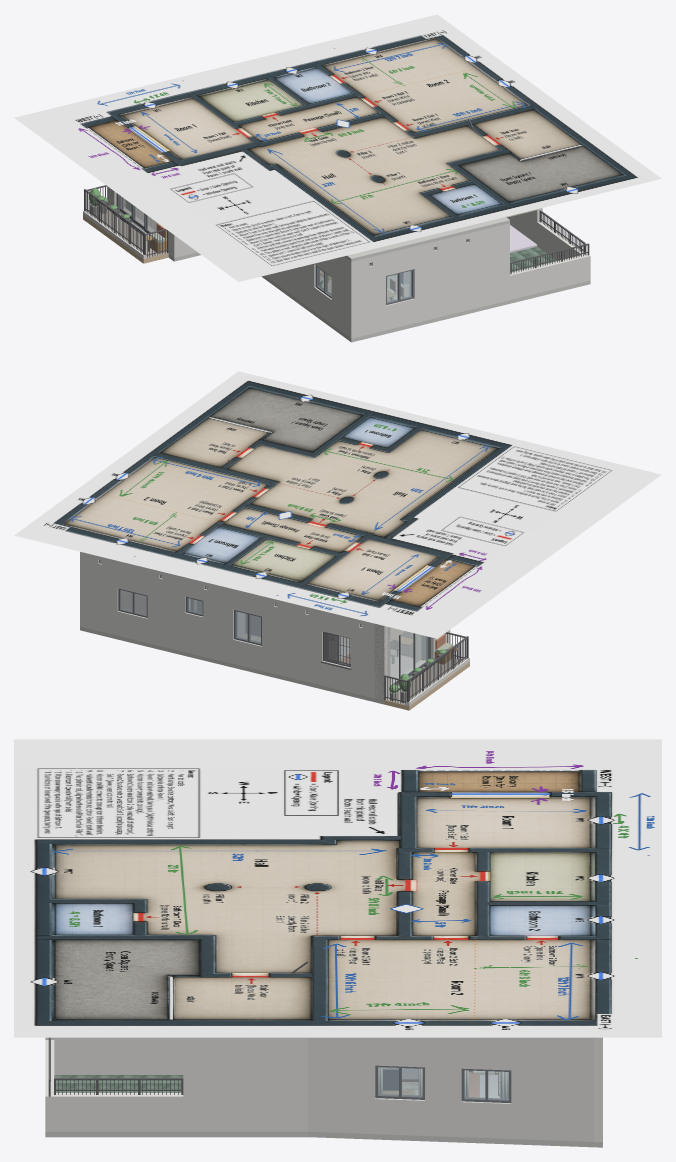
The model's file is MyFlat_V2_Room2_Ensuite.glb.
The picture shows the model from 3 angles, top to bottom: view 1: azimuth 30°, elevation 25°; view 2: azimuth 150°, elevation 25°; view 3: azimuth 270°, elevation 25°; orthographic projection. The views are drawn at different scales.
Visible parts, largest first — view 1: PLAN_REFERENCE_OVERLAY, WALL_EXT_S_HALL, WALL_EXT_W_HALL, PARAPET_OPENSQ_S, SLAB_FLOOR_STRUCTURAL, BALCONY_RAILING_W, SLAB_ROOF, PARAPET_OPENSQ_E, RAILING_OPENSQ_S, R1_DEF_BALCONY_FLOOR_FINISH, WALL_EXT_E_STAIR, HBB_OPENSQ_FINISH (+2 smaller); view 2: PLAN_REFERENCE_OVERLAY, WALL_EXT_N_R1, WALL_EXT_N_R2, WALL_EXT_N_KIT, WALL_EXT_N_B2, BALCONY_RAILING_W, SLAB_FLOOR_STRUCTURAL, PILLAR_R1_NW, R1_DEF_BALCONY_CURTAIN_SHEER, R1_DEF_BALCONY_FLOOR_FINISH, WINDOW_W2_GLASS, WALL_EXT_W_R1_BALCONY (+1 smaller); view 3: PLAN_REFERENCE_OVERLAY, WALL_EXT_E_R2_TAPERED, WALL_EXT_E_STAIR, PARAPET_OPENSQ_E, WALL_INT_OPENSQ_W, SLAB_FLOOR_STRUCTURAL, HBB_OPENSQ_FINISH, WINDOW_W5_GLASS, WINDOW_W6_GLASS, RAILING_OPENSQ_E, WALL_EXT_N_R2, PARAPET_OPENSQ_S (+2 smaller).
Boxes of the visible parts, x1,y1,x2,y2 form: PLAN_REFERENCE_OVERLAY: (14,14,661,281); WALL_EXT_S_HALL: (348,223,509,338); WALL_EXT_W_HALL: (265,256,356,338); PARAPET_OPENSQ_S: (510,254,590,299); SLAB_FLOOR_STRUCTURAL: (168,252,590,342); BALCONY_RAILING_W: (84,189,145,254); SLAB_ROOF: (344,217,509,261); PARAPET_OPENSQ_E: (537,221,587,260); RAILING_OPENSQ_S: (510,243,589,274); R1_DEF_BALCONY_FLOOR_FINISH: (96,209,168,258); WALL_EXT_E_STAIR: (507,208,542,244); HBB_OPENSQ_FINISH: (510,246,556,272); PLAN_REFERENCE_OVERLAY: (14,371,661,638); WALL_EXT_N_R1: (283,601,387,700); WALL_EXT_N_R2: (80,553,176,649); WALL_EXT_N_KIT: (211,584,283,676); WALL_EXT_N_B2: (177,575,211,658); BALCONY_RAILING_W: (407,636,468,701); SLAB_FLOOR_STRUCTURAL: (80,626,384,704); PILLAR_R1_NW: (374,623,390,700); R1_DEF_BALCONY_CURTAIN_SHEER: (390,631,421,681); R1_DEF_BALCONY_FLOOR_FINISH: (385,658,462,705); WINDOW_W2_GLASS: (236,611,260,642); WALL_EXT_W_R1_BALCONY: (375,624,449,698); PLAN_REFERENCE_OVERLAY: (14,739,661,1037); WALL_EXT_E_R2_TAPERED: (307,1037,594,1141); WALL_EXT_E_STAIR: (183,1037,307,1131); PARAPET_OPENSQ_E: (54,1093,183,1131); WALL_INT_OPENSQ_W: (54,1037,183,1074); SLAB_FLOOR_STRUCTURAL: (45,1131,602,1147); HBB_OPENSQ_FINISH: (54,1075,183,1092); WINDOW_W5_GLASS: (464,1070,508,1099); WINDOW_W6_GLASS: (378,1067,422,1096); RAILING_OPENSQ_E: (54,1078,183,1094); WALL_EXT_N_R2: (594,1037,602,1142); PARAPET_OPENSQ_S: (45,1040,54,1131).
Size of what is drawn, in the model's own units: 18.03 by 4.33 by 16.55.
Materials: 131 (7 with a texture image).
